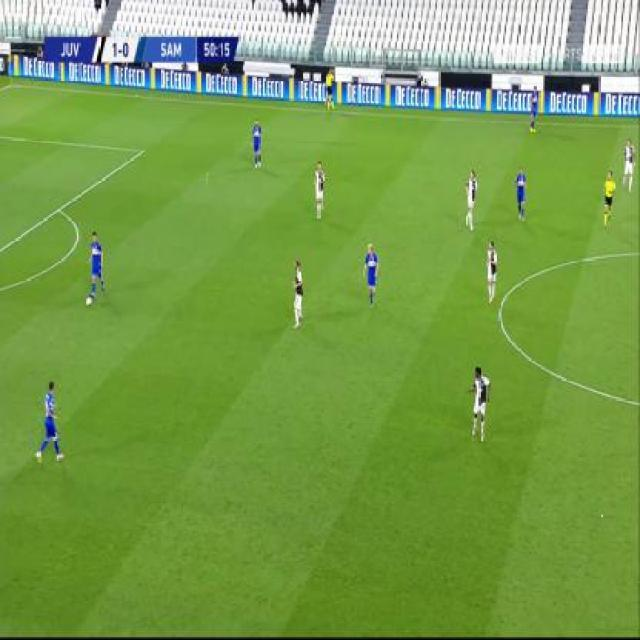ball: (85, 295, 93, 308)
player: (32, 379, 63, 467), (466, 362, 492, 444), (86, 228, 106, 304), (361, 240, 380, 309), (290, 256, 306, 330), (464, 166, 480, 231), (601, 169, 617, 229), (621, 135, 637, 194), (485, 237, 499, 303), (514, 164, 528, 221), (313, 159, 326, 219), (250, 116, 263, 170), (528, 85, 541, 136), (324, 65, 337, 113)
